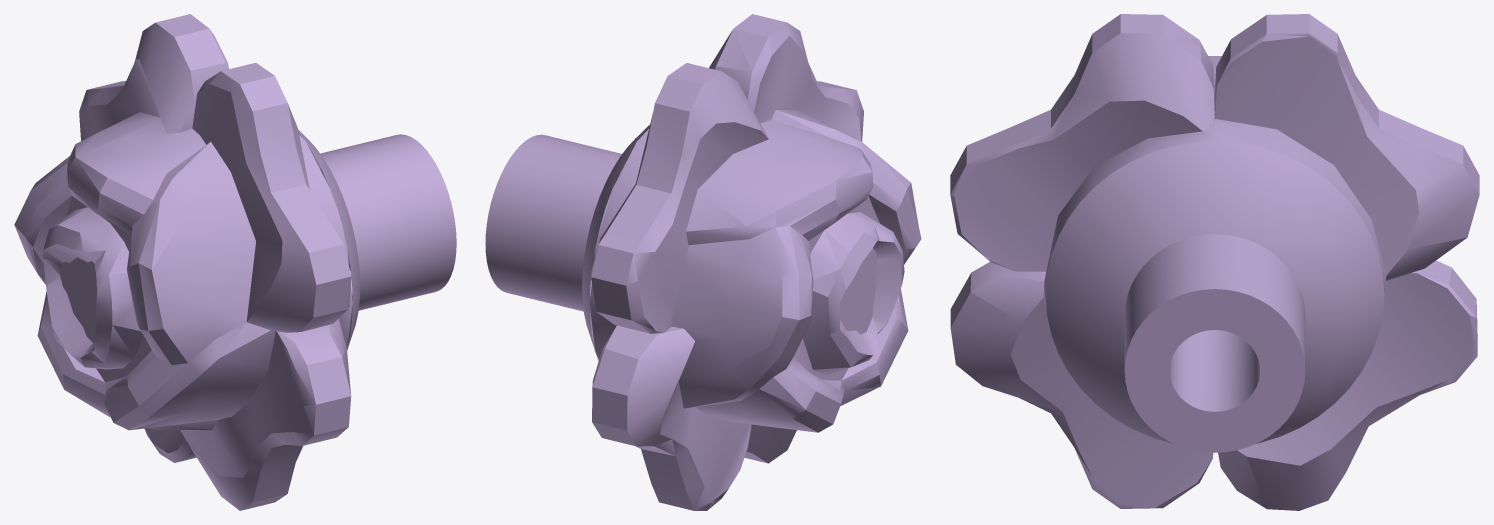
The model's file is plant_flower_rose_with_bar_and_pin_hole_lavender.obj.
The picture shows the model from 3 angles, left to right: view 1: azimuth 30°, elevation 25°; view 2: azimuth 150°, elevation 25°; view 3: azimuth 270°, elevation 25°; orthographic projection. The views are drawn at different scales.
Size of the model in its own units: 19.82 by 23.35 by 23.44.
